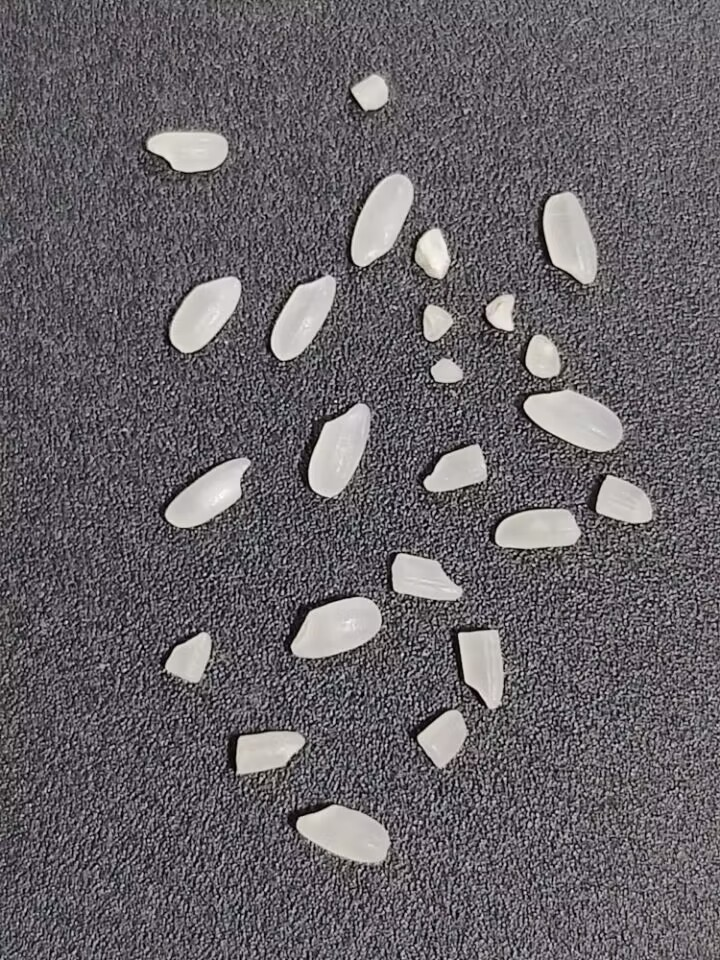broken: (457, 627, 507, 710), (389, 551, 467, 602), (231, 727, 306, 777), (421, 441, 489, 494), (415, 705, 470, 769), (594, 470, 653, 525), (161, 628, 215, 685), (410, 224, 458, 282), (521, 330, 565, 379), (415, 298, 460, 345), (479, 290, 519, 335), (349, 73, 391, 113), (425, 355, 467, 388)
rice: (160, 451, 255, 530), (303, 399, 373, 499), (522, 387, 626, 453), (347, 172, 414, 269), (294, 800, 390, 866), (288, 595, 382, 661), (270, 272, 337, 363), (168, 274, 242, 354), (541, 188, 600, 286), (143, 128, 230, 176), (493, 506, 582, 550)
